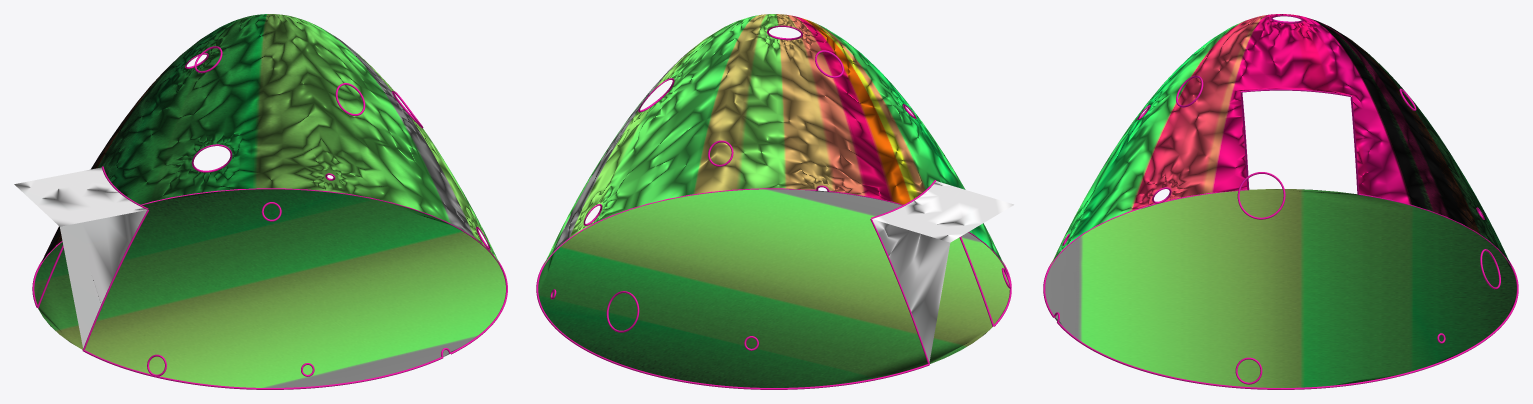
3 views of the same model, side by side, from view 1: azimuth 30°, elevation 25°; view 2: azimuth 150°, elevation 25°; view 3: azimuth 270°, elevation 25° (orthographic).
Parts seen in each view (by area): view 1: Solids, Solids_2, Canopy, Openings, Canopy_2; view 2: Solids, Solids_2, Canopy, Openings, Canopy_2; view 3: Solids, Solids_2, Openings.
Boxes of the visible parts, <box> form: Solids: <box>34,14,505,387</box>; Solids_2: <box>35,15,505,387</box>; Canopy: <box>14,167,147,347</box>; Openings: <box>32,46,507,389</box>; Canopy_2: <box>19,168,145,346</box>; Solids: <box>538,14,1009,387</box>; Solids_2: <box>538,15,1009,387</box>; Canopy: <box>872,181,1013,362</box>; Openings: <box>536,25,1011,389</box>; Canopy_2: <box>874,182,1010,354</box>; Solids: <box>1045,14,1516,387</box>; Solids_2: <box>1045,14,1516,387</box>; Openings: <box>1043,15,1518,389</box>.
Bounding box in the file's own units: 15.02 × 8.92 × 14.34.
Materials: 3 (3 with a texture image).
